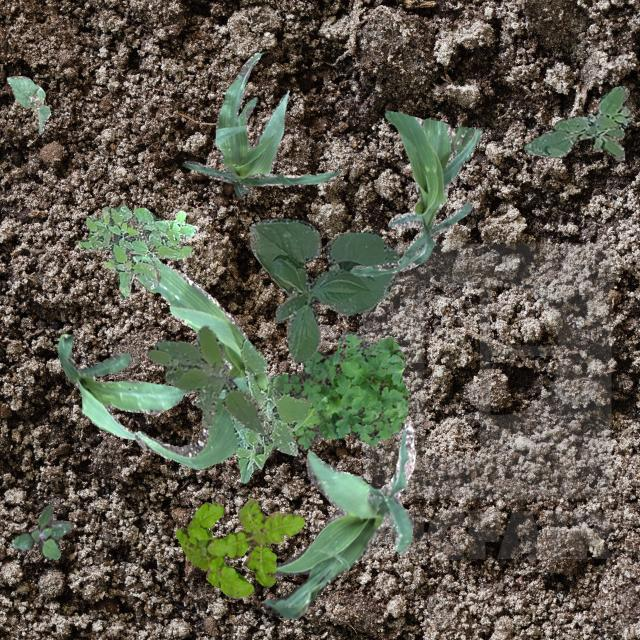crop: (262, 420, 414, 618), (130, 254, 268, 468), (182, 52, 338, 198), (247, 216, 398, 362), (350, 110, 480, 276), (56, 332, 188, 438), (5, 74, 50, 132)
weed: (291, 329, 408, 448), (174, 498, 304, 598), (146, 324, 264, 432), (228, 338, 310, 482), (77, 205, 196, 298), (274, 350, 378, 444), (522, 84, 630, 160), (12, 504, 70, 558)
